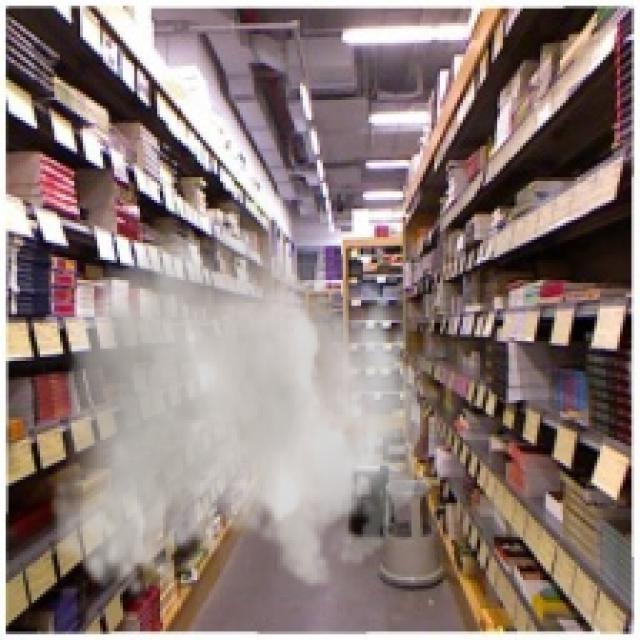Smoke: (51, 180, 423, 600)
